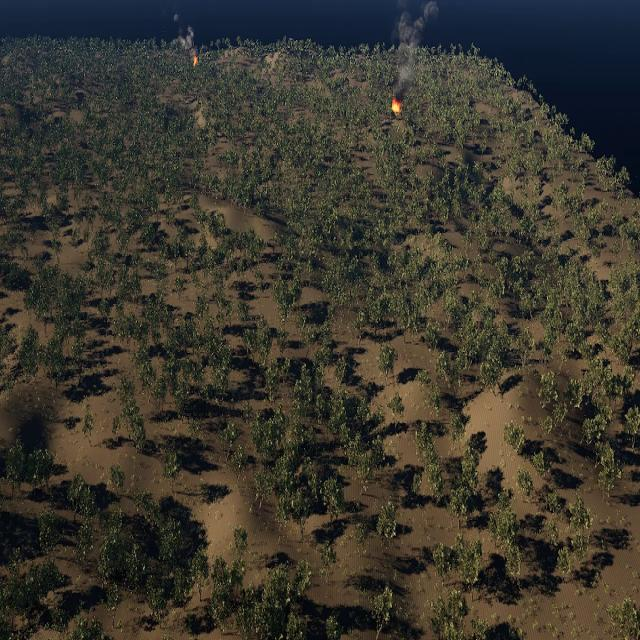fire: (392, 100, 401, 114), (192, 56, 197, 66)
smoke: (391, 0, 441, 98), (171, 12, 195, 54)
